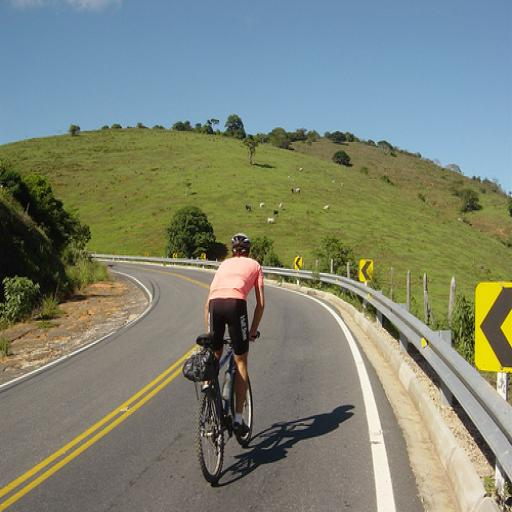bicycle: (183, 327, 260, 484)
person: (203, 233, 265, 434)
